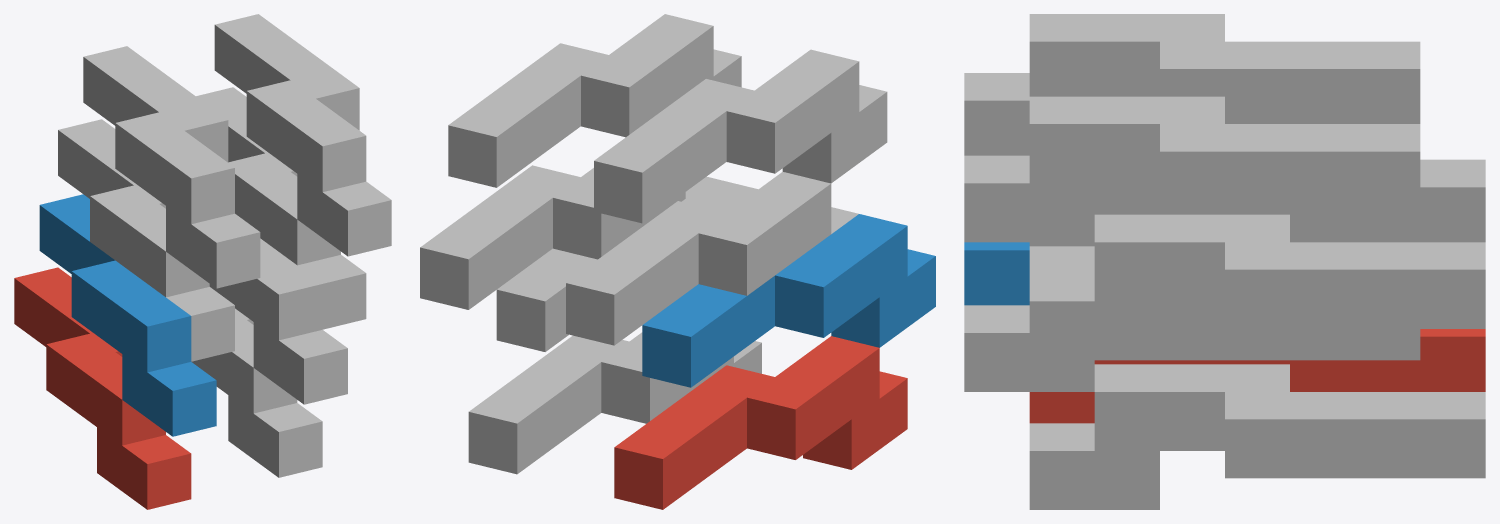
The model's file is tiling.obj.
3 renders of one model, left to right at view 1: azimuth 30°, elevation 25°; view 2: azimuth 150°, elevation 25°; view 3: azimuth 270°, elevation 25°, orthographic. The views are drawn at different scales.
Visible parts, largest first — view 1: copy_1_domain_8, copy_1_domain_4, copy_1_domain_2, copy_1_domain_1, copy_1_domain_3, copy_1_domain_7, copy_1_domain_6, copy_1_domain_5; view 2: copy_1_domain_4, copy_1_domain_1, copy_1_domain_2, copy_1_domain_8, copy_1_domain_3, copy_1_domain_5, copy_1_domain_7, copy_1_domain_6; view 3: copy_1_domain_8, copy_1_domain_7, copy_1_domain_5, copy_1_domain_4, copy_1_domain_6, copy_1_domain_3, copy_1_domain_1, copy_1_domain_2.
Boxes of the visible parts, box(x1,y1,x2,y2) form: copy_1_domain_8: box(214, 14, 391, 256); copy_1_domain_4: box(83, 46, 260, 288); copy_1_domain_2: box(39, 194, 216, 436); copy_1_domain_1: box(14, 267, 191, 509); copy_1_domain_3: box(58, 119, 234, 361); copy_1_domain_7: box(196, 87, 366, 329); copy_1_domain_6: box(209, 238, 347, 404); copy_1_domain_5: box(191, 308, 322, 477); copy_1_domain_4: box(594, 49, 887, 223); copy_1_domain_1: box(614, 336, 907, 509); copy_1_domain_2: box(642, 214, 935, 387); copy_1_domain_8: box(448, 14, 741, 187); copy_1_domain_3: box(566, 171, 858, 345); copy_1_domain_5: box(468, 332, 761, 474); copy_1_domain_7: box(420, 165, 712, 309); copy_1_domain_6: box(496, 178, 757, 351); copy_1_domain_8: box(964, 96, 1420, 242); copy_1_domain_7: box(1029, 214, 1485, 360); copy_1_domain_5: box(1029, 364, 1485, 509); copy_1_domain_4: box(964, 14, 1420, 155); copy_1_domain_6: box(964, 246, 1420, 391); copy_1_domain_3: box(1029, 159, 1485, 246); copy_1_domain_1: box(1029, 329, 1485, 423); copy_1_domain_2: box(964, 242, 1029, 305).
Size of the model in its own units: 6 by 7 by 8.
